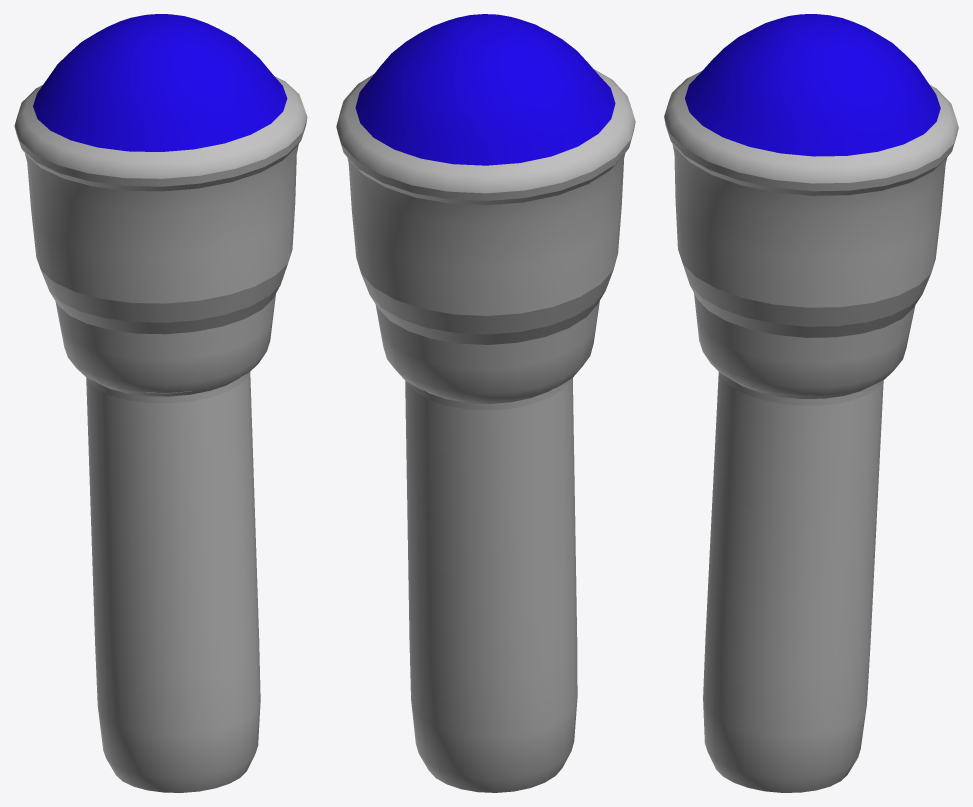
File: lente_telescopio.fbx
The picture shows the model from 3 angles, left to right: view 1: azimuth 30°, elevation 25°; view 2: azimuth 150°, elevation 25°; view 3: azimuth 270°, elevation 25°; orthographic projection. The views are drawn at different scales.
Visible parts, largest first — view 1: lenteTelescopio; view 2: lenteTelescopio; view 3: lenteTelescopio.
Boxes of the visible parts, box(x1,y1,x2,y2) form: lenteTelescopio: box(14, 14, 307, 792); lenteTelescopio: box(336, 14, 635, 792); lenteTelescopio: box(664, 14, 958, 792).
Size of the model in its own units: 264 by 733 by 264.
